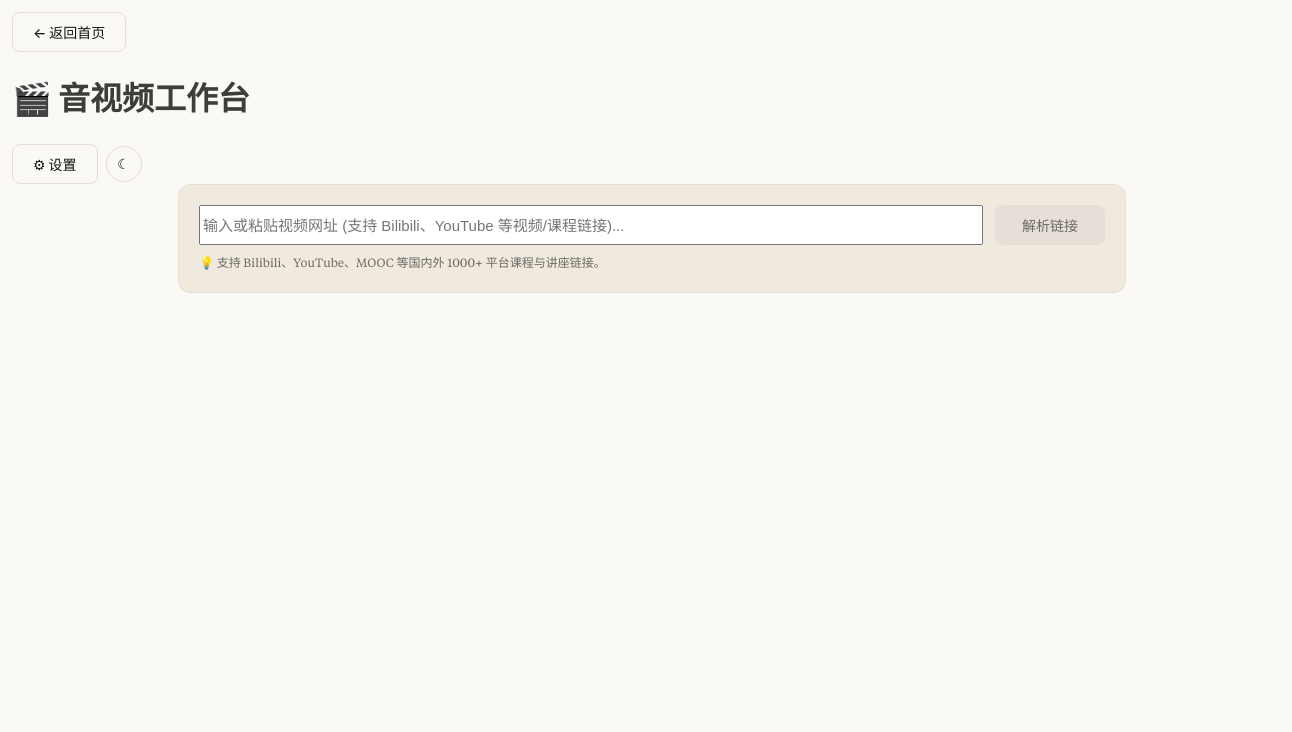
Test: MediaDownloaderPanel › renders input and parses video url successfully
Type "https://example.com/watch?v=abc12345" into the field with placeholder "输入或粘贴视频网址 (支持 Bilibili、YouTube 等视频/课程链接)..." at (591, 226), box [199,206,983,246]
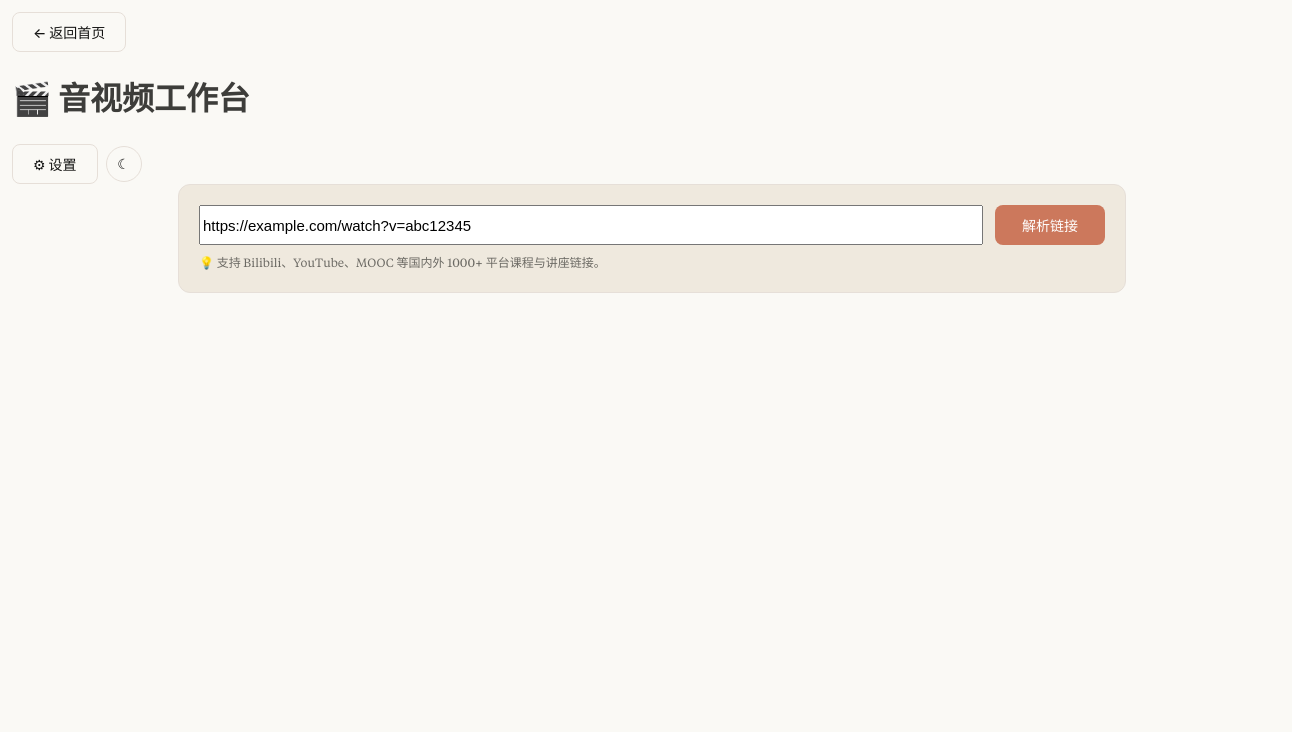
Click the button "解析链接" at (1050, 226), box [995,206,1105,246]
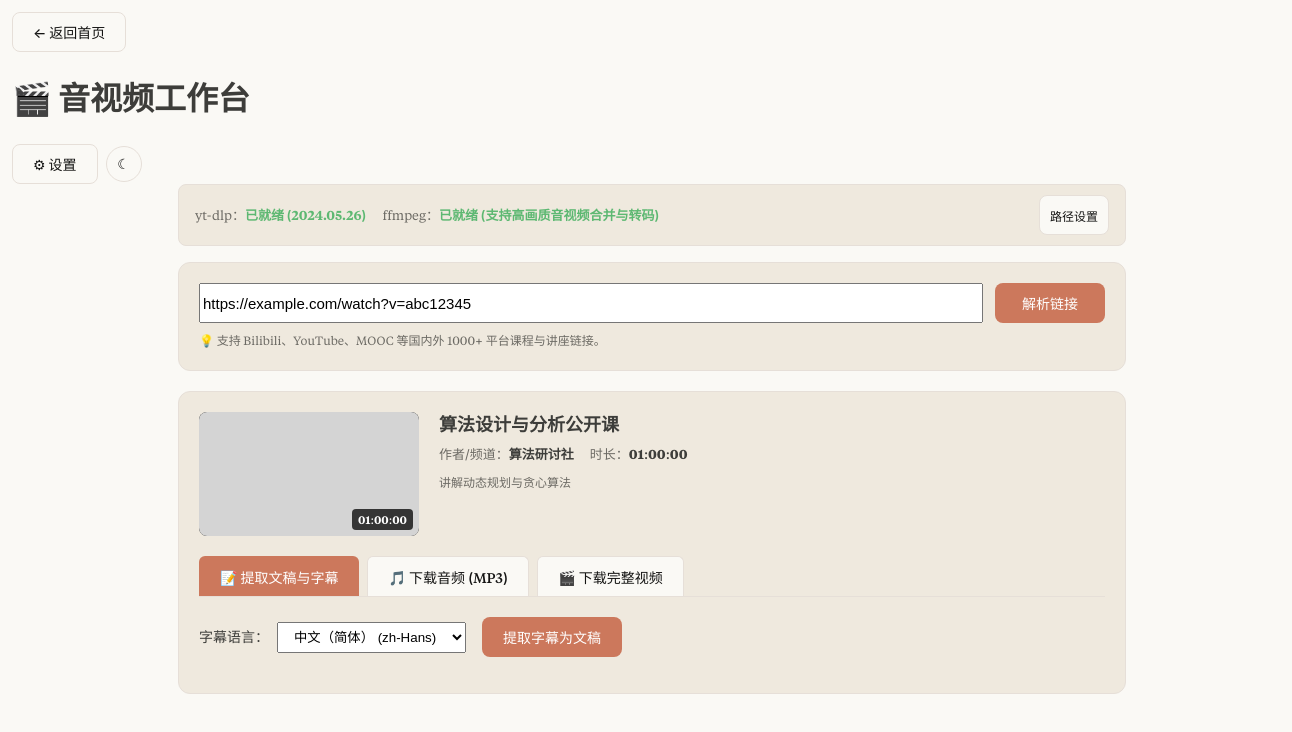
Result: the heading "算法设计与分析公开课" is shown at [439,412,619,436]
Result: the text "算法研讨社" is shown at [509,445,574,462]
Result: the 2nd text "01:00:00" is shown at [352,509,413,530]
